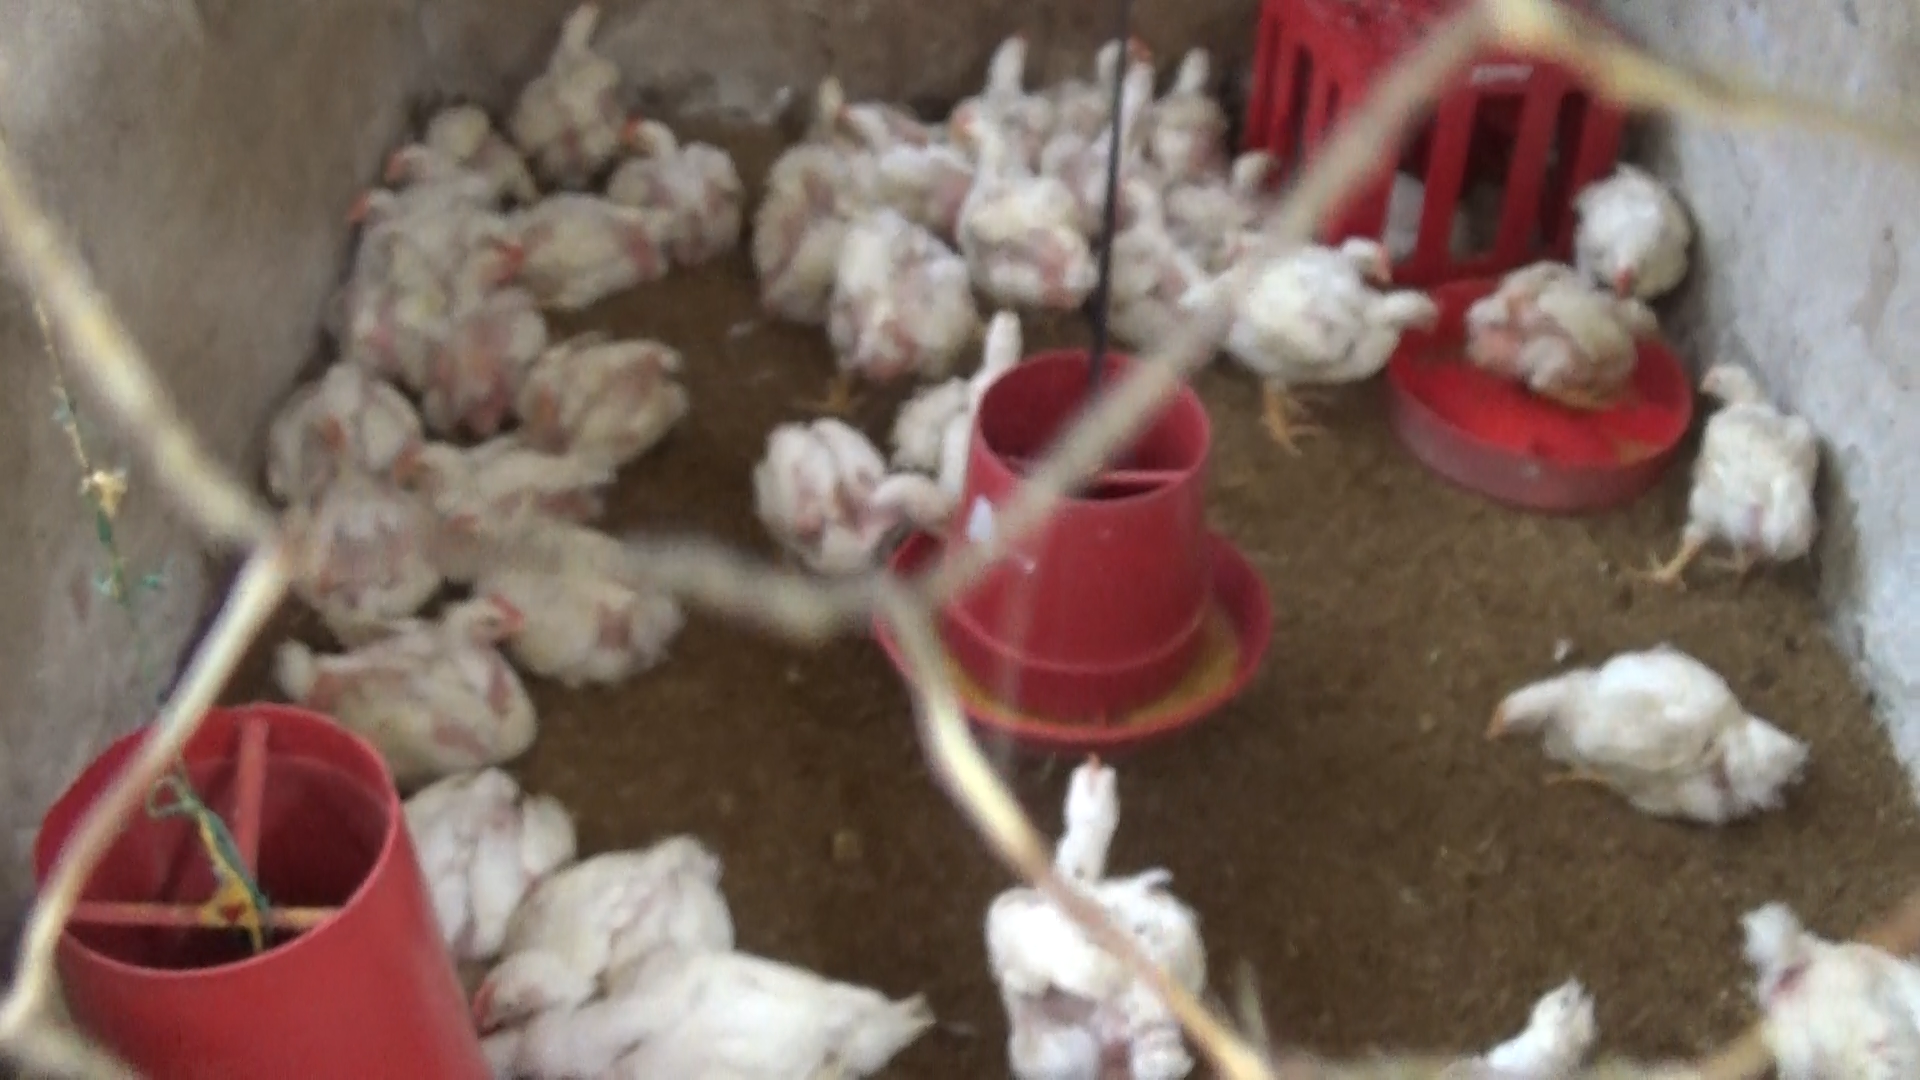Pollos: (960, 748, 1215, 1065), (1468, 640, 1821, 839), (501, 943, 934, 1080), (451, 832, 736, 1027), (268, 585, 545, 760), (1182, 247, 1447, 388), (748, 409, 949, 591), (1676, 359, 1832, 585), (1468, 257, 1667, 419), (893, 289, 1042, 501), (948, 111, 1095, 309), (373, 415, 629, 525), (760, 76, 862, 320), (823, 196, 965, 371), (603, 102, 746, 270), (1097, 179, 1224, 356), (417, 229, 530, 405), (1576, 157, 1702, 309), (517, 3, 622, 185), (524, 324, 683, 443), (269, 373, 419, 491), (1093, 26, 1197, 175), (945, 21, 1042, 137), (380, 138, 514, 219), (832, 102, 948, 193), (338, 185, 450, 270), (1178, 138, 1280, 218), (1286, 222, 1408, 282)
